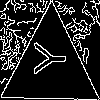Y: (25, 41, 67, 76)
